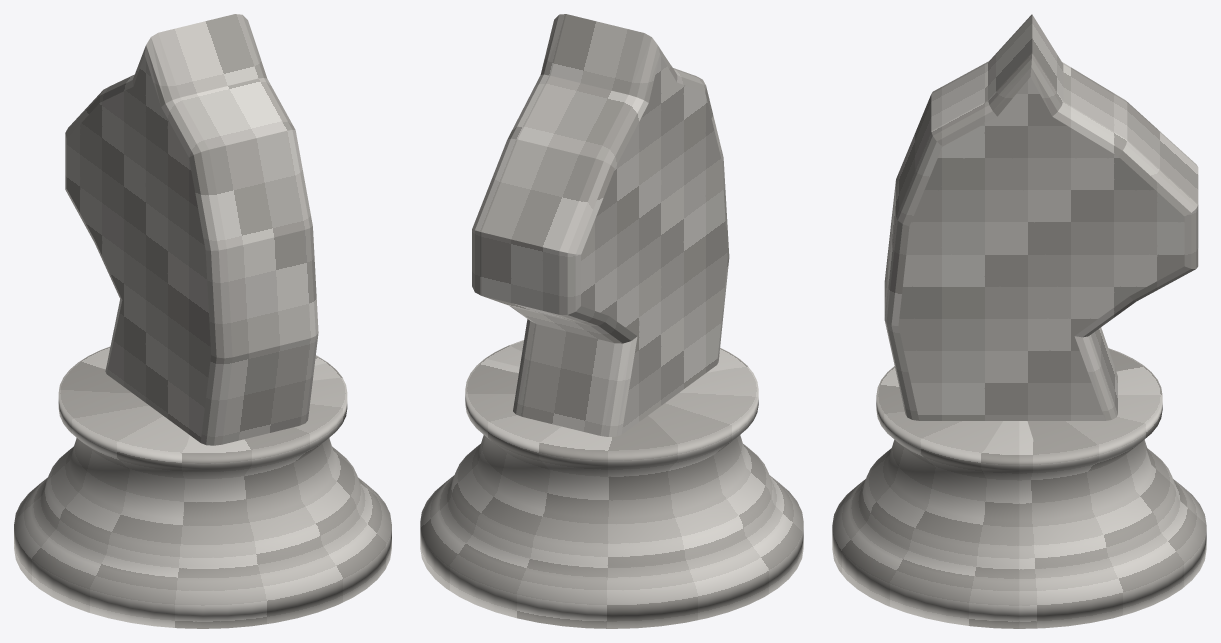
The model's file is knight.glb.
The picture shows the model from 3 angles, left to right: view 1: azimuth 30°, elevation 25°; view 2: azimuth 150°, elevation 25°; view 3: azimuth 270°, elevation 25°; orthographic projection. The views are drawn at different scales.
Parts seen in each view (by area): view 1: split-part (×2); view 2: split-part (×2); view 3: split-part (×2).
Part boxes in pixels (x1=…): split-part (×2): x1=14, y1=14, x2=391, y2=628; split-part (×2): x1=420, y1=14, x2=803, y2=628; split-part (×2): x1=832, y1=14, x2=1206, y2=628.
Size of the model in its own units: 25.16 by 38.3 by 25.16.
1 material, 1 textured.
